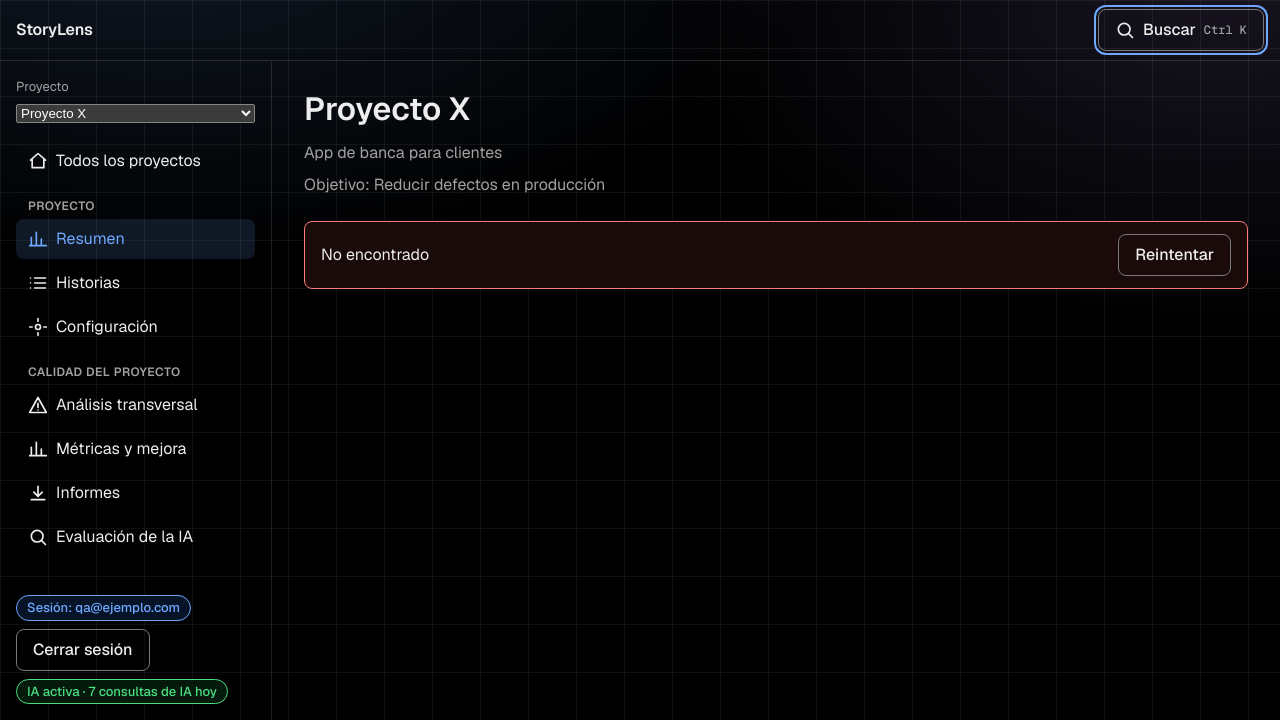
Test case: Shell › Ctrl+K abre la paleta, filtra y Enter navega; Esc devuelve el foco
Step 1. Type keys "{Control>}k{/Control}"
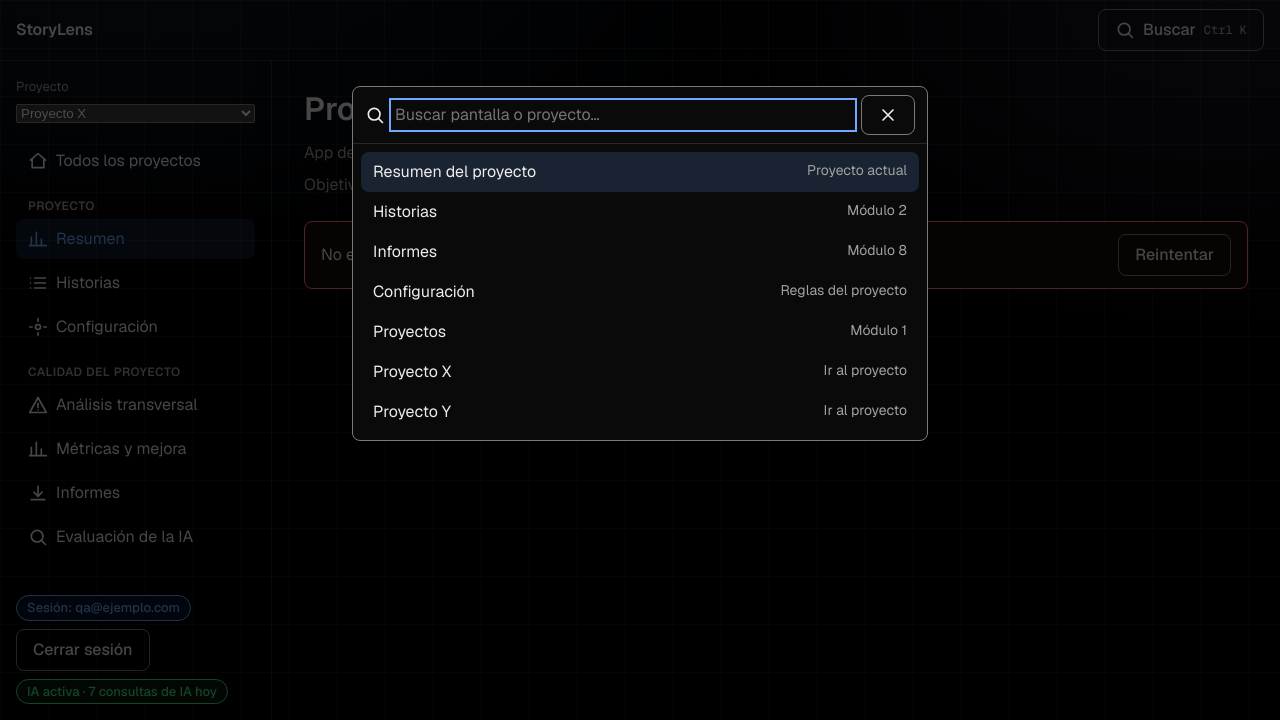
Step 2. Type "informes" into the dropdown → [623, 115], box [393,102,853,128]
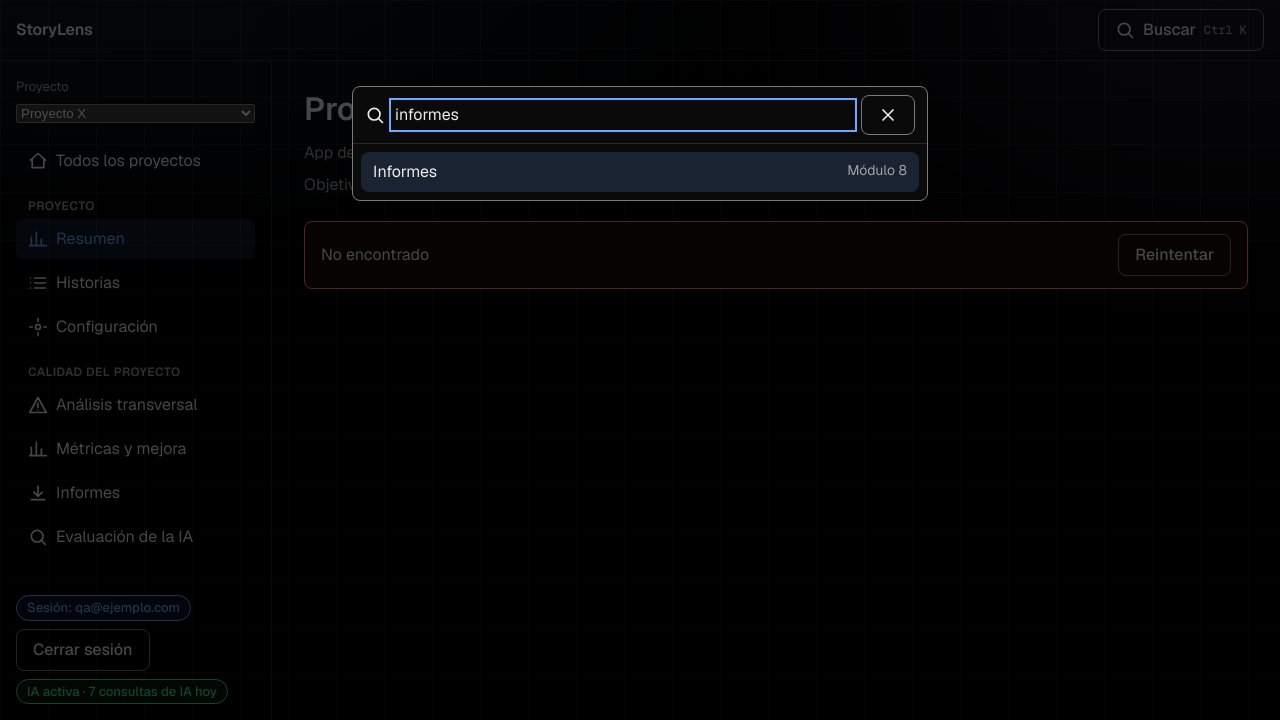
Step 3. Press Enter
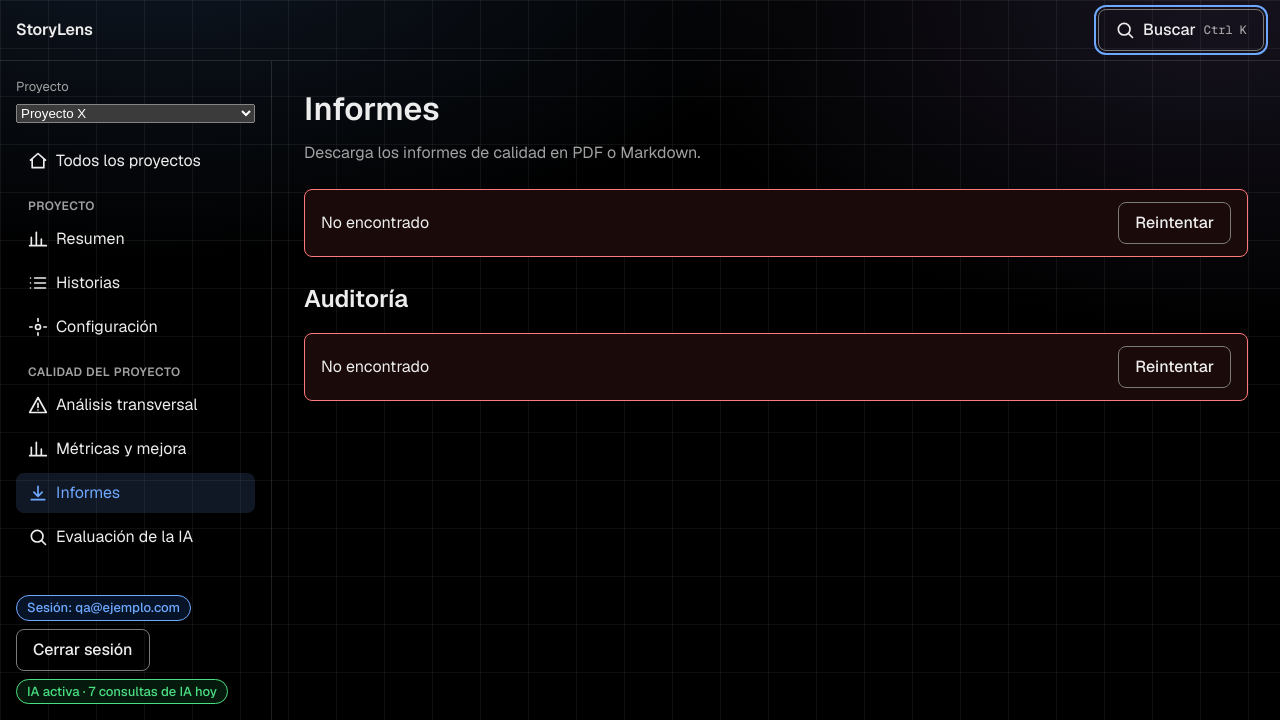
Check: the dialog is gone
Step 4. Type keys "{Control>}k{/Control}"
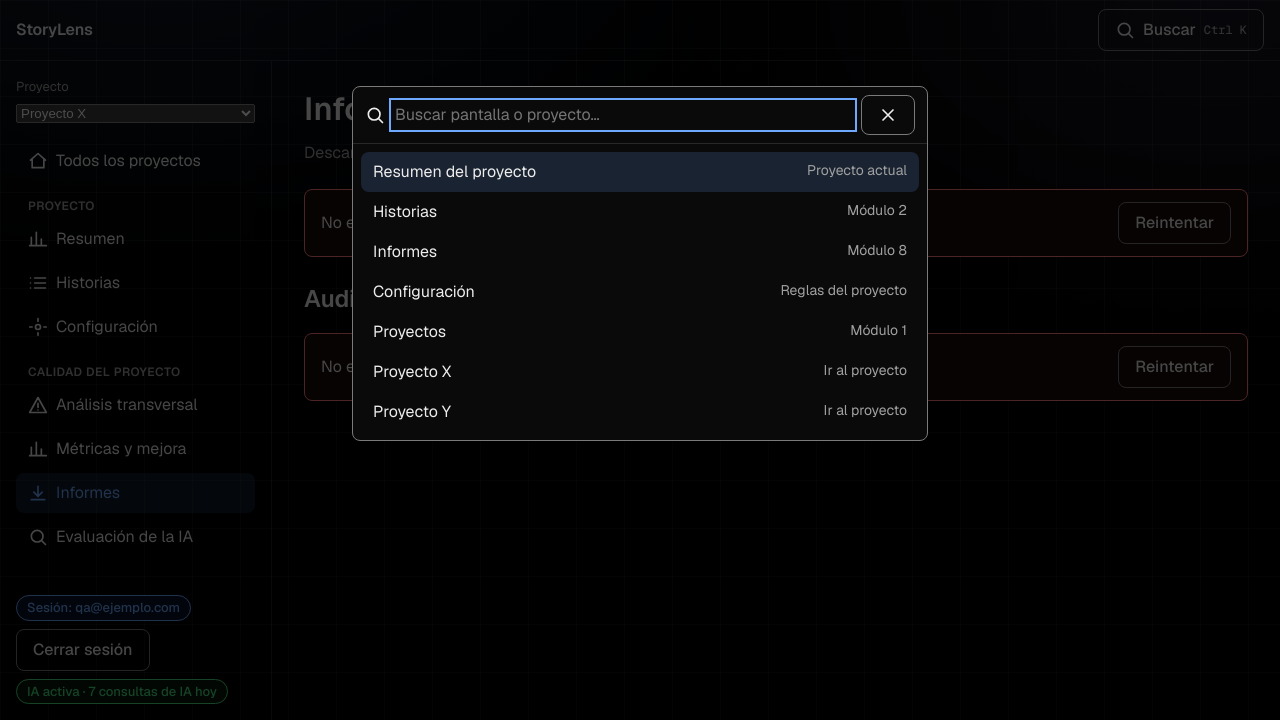
Check: the dialog is shown, box [352,86,928,441]
Step 5. Press Escape
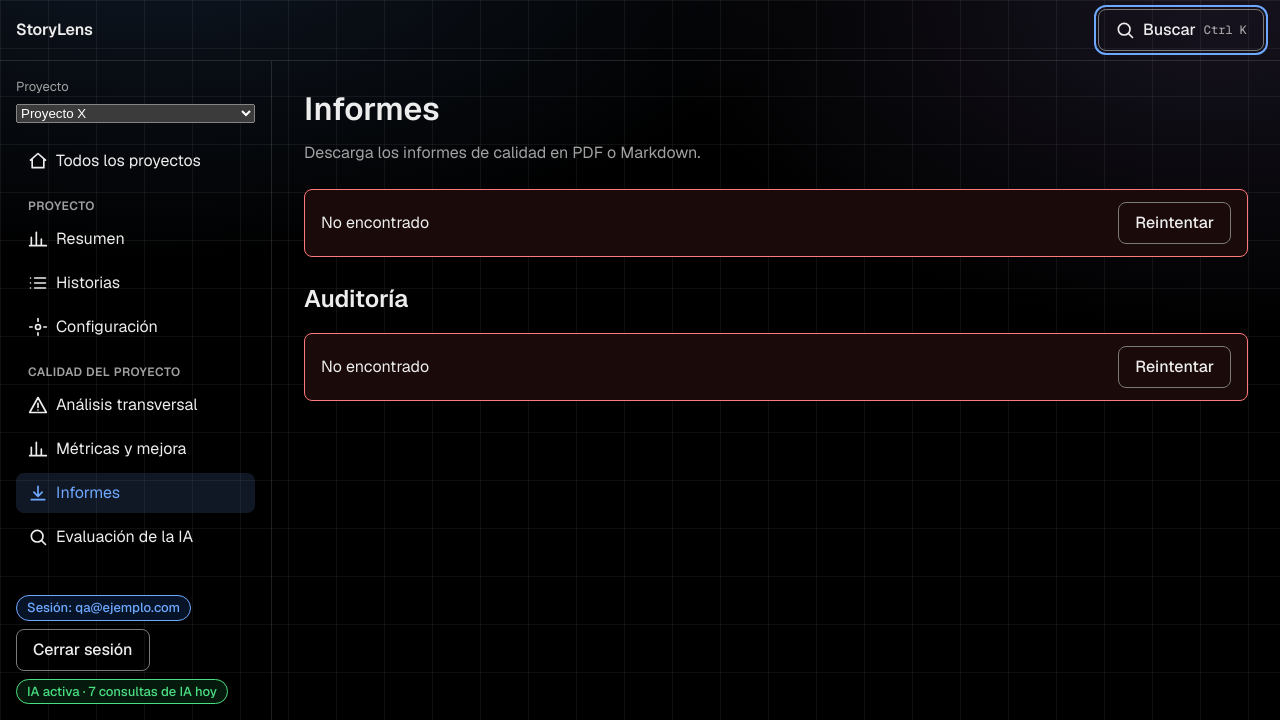
Check: the dialog is gone
